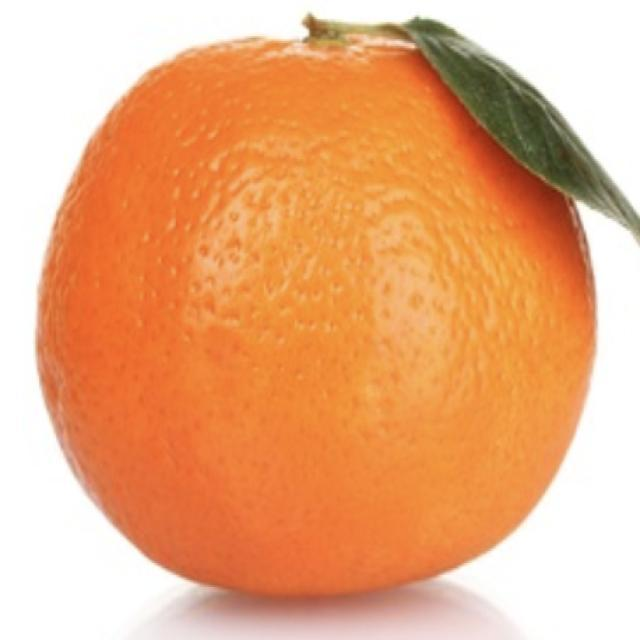Orange: (33, 12, 602, 600)
